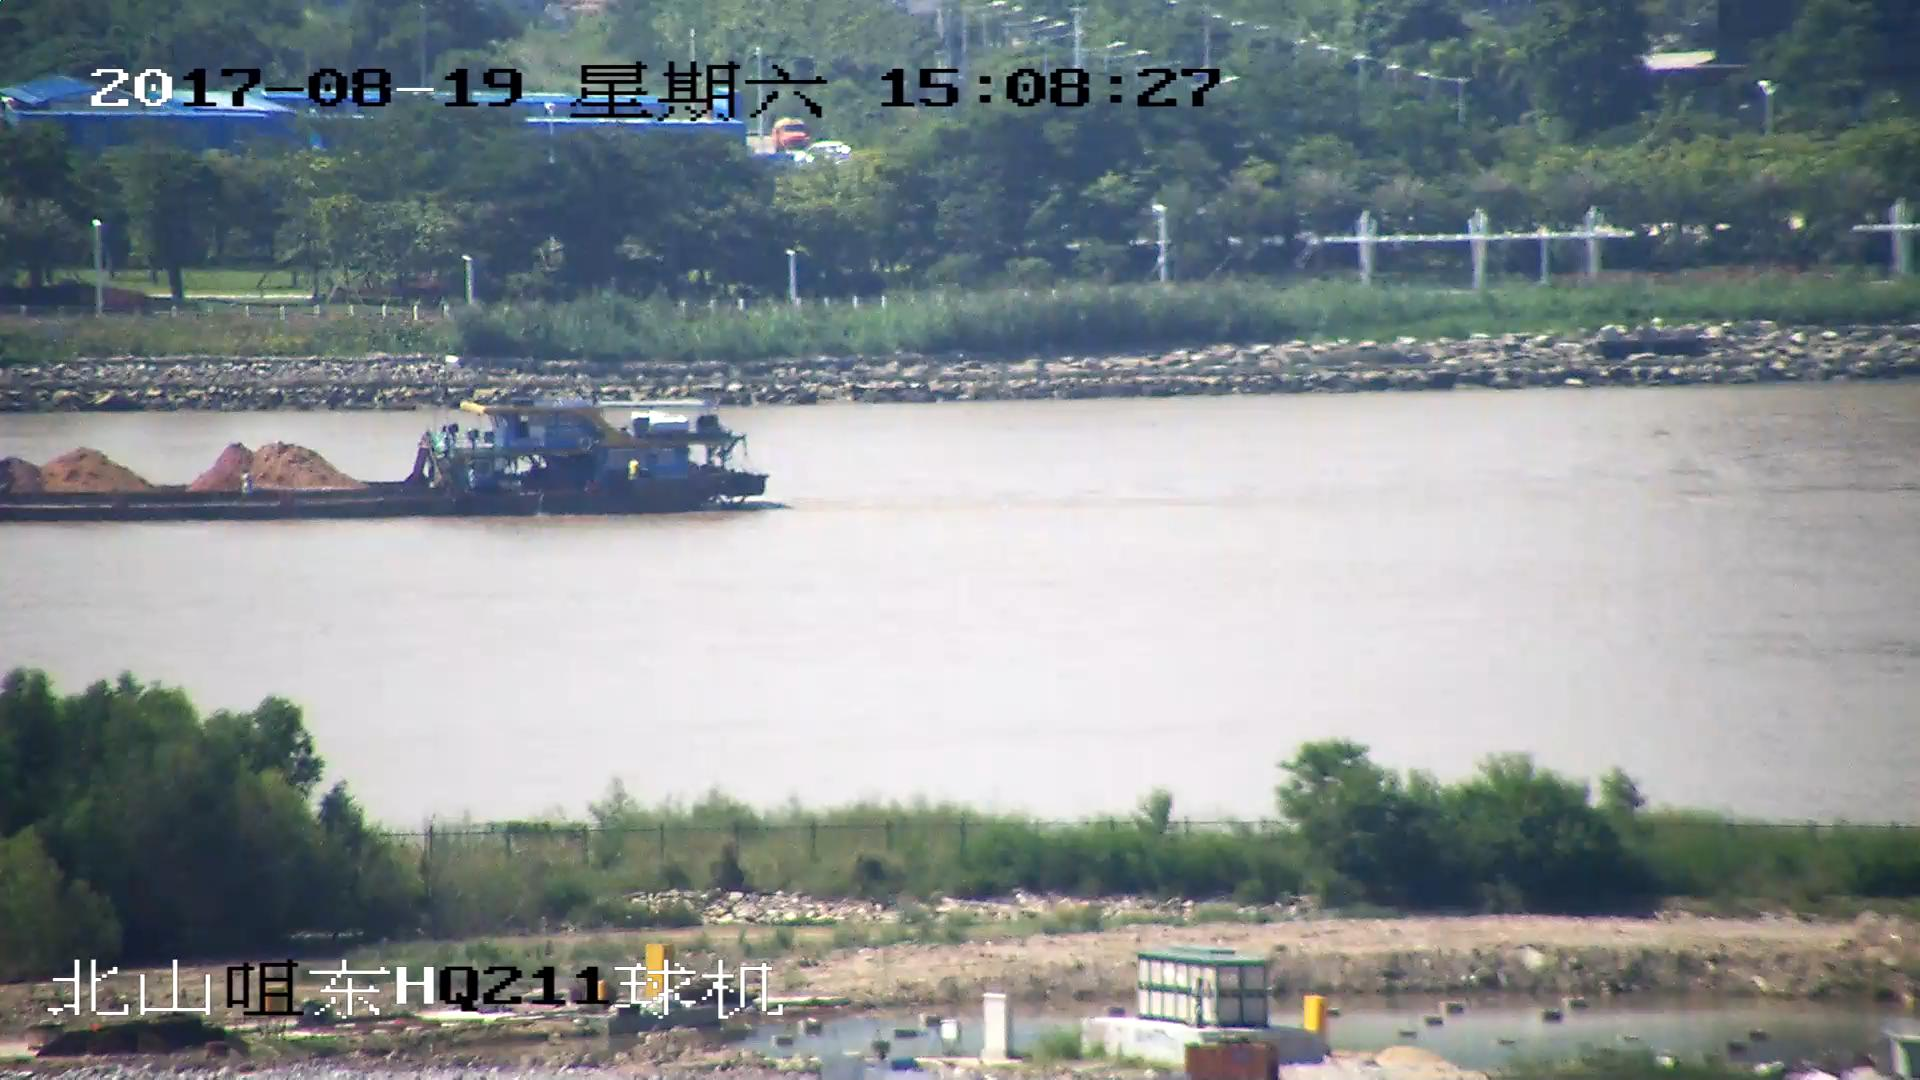ore carrier: (1, 386, 771, 520)
